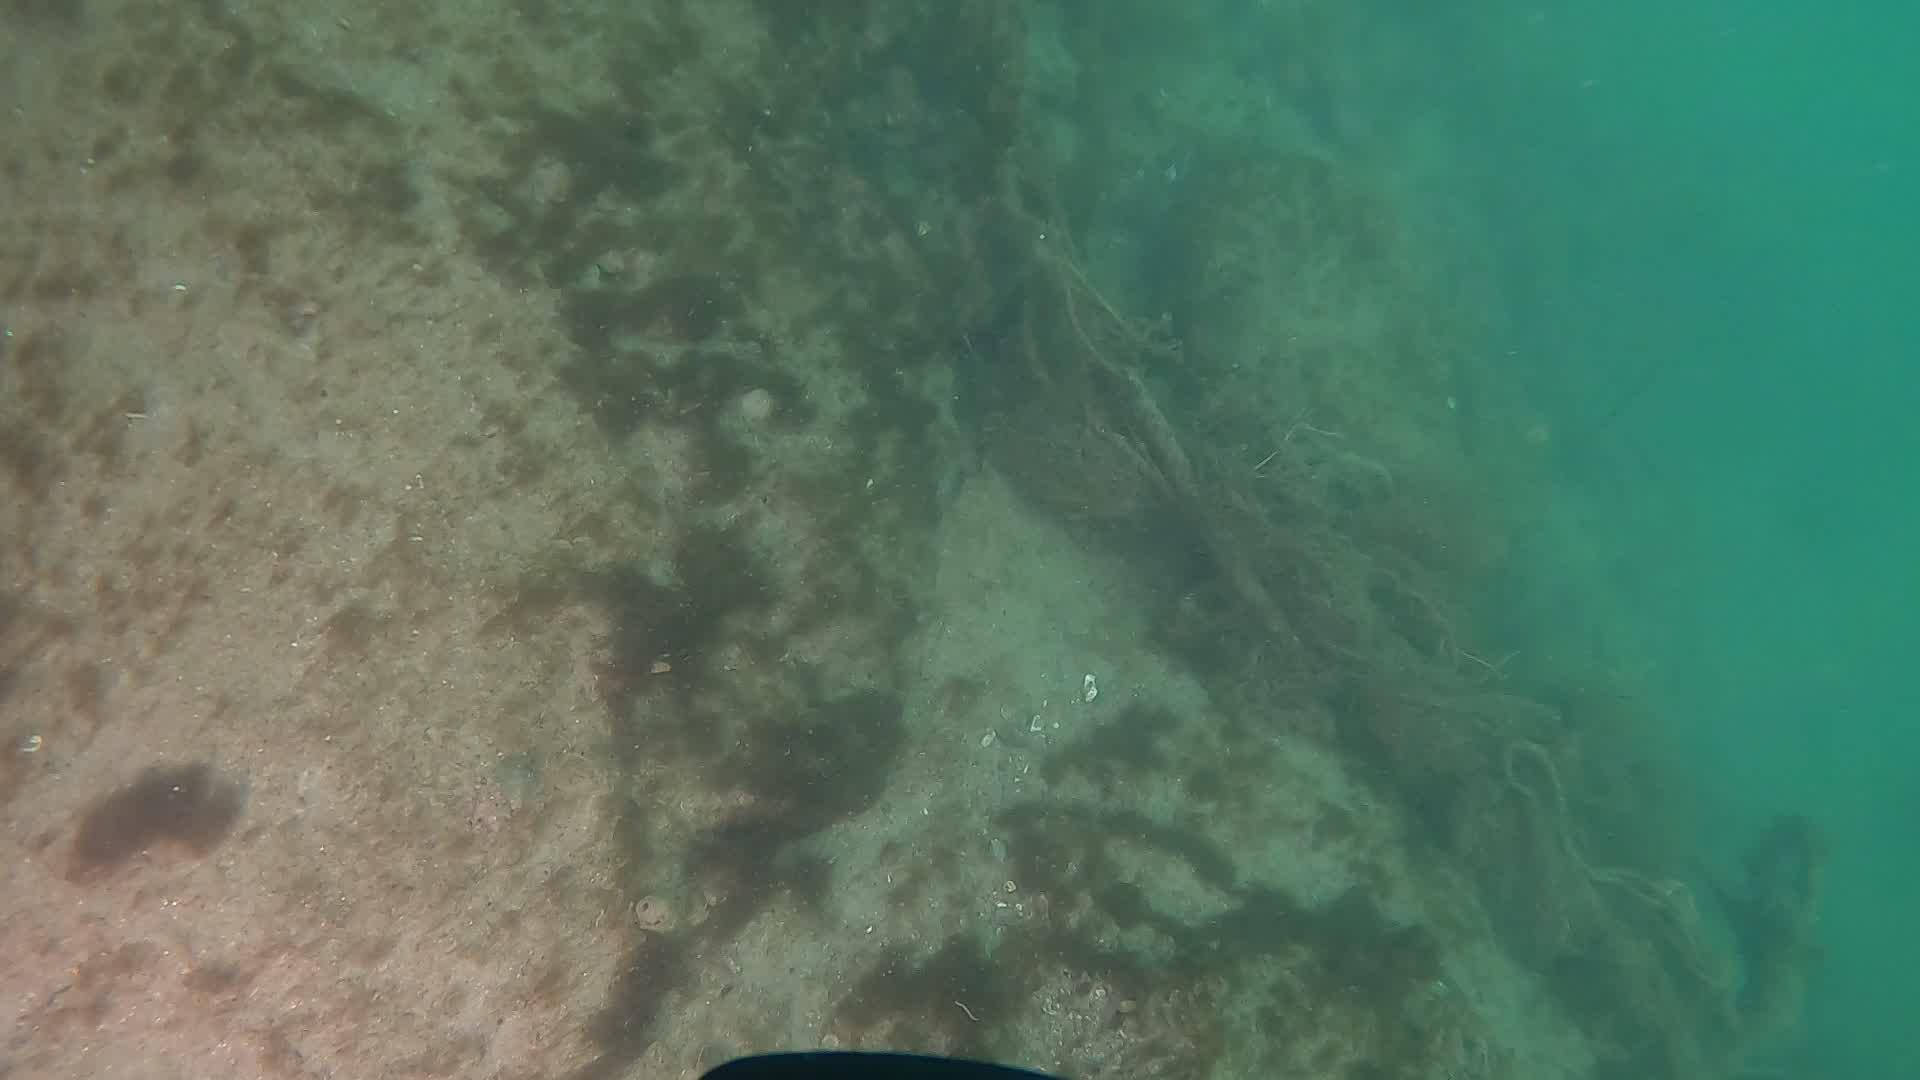rope: (1124, 373, 1288, 633)
